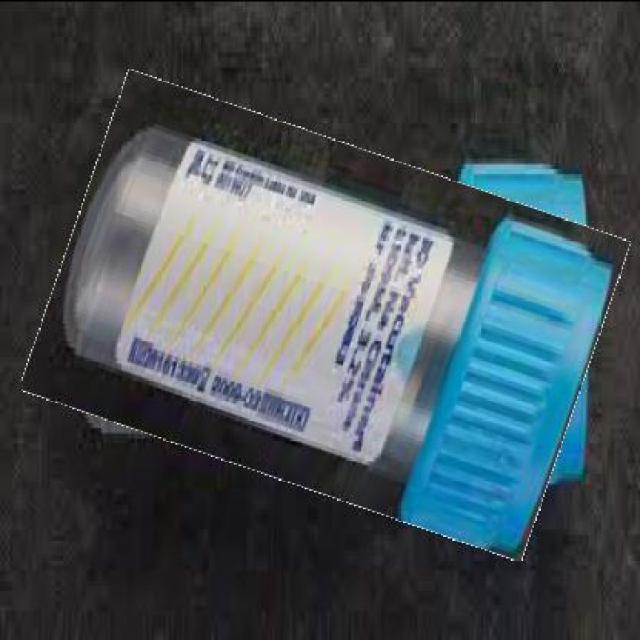Experimental-tube: (40, 106, 611, 522)
